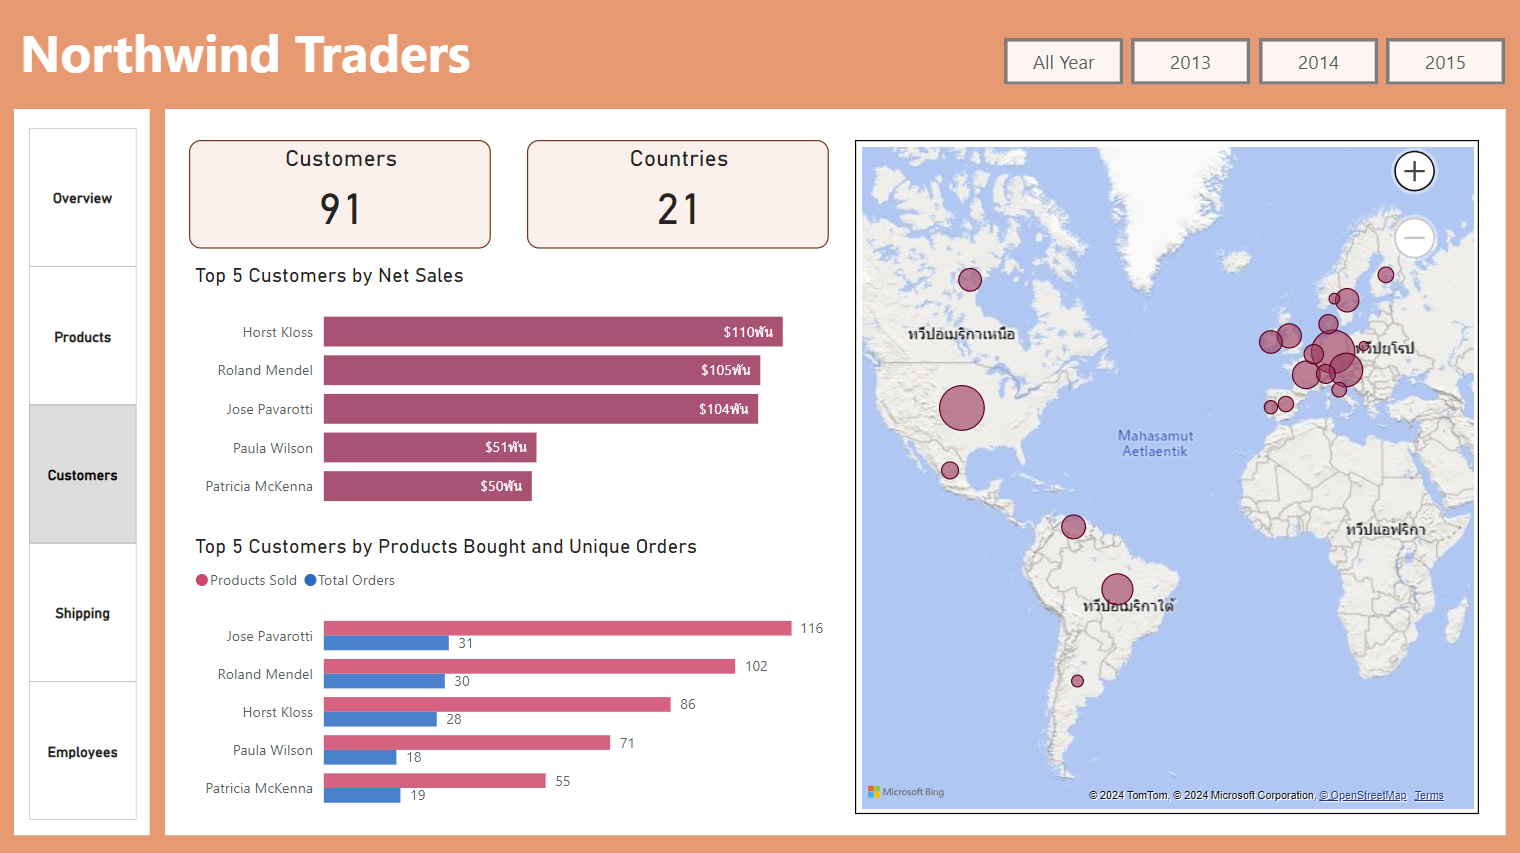

The page's visual inventory and layout, read from the dashboard file:
{"tool":"powerbi","page":{"name":"Customers","canvas":[1280,720],"ordinal":2},"visuals":[{"type":"textbox","box":[15.1,12.8,676,82.5],"z":0},{"type":"shape","box":[141.2,95,1123.8,608.8],"z":1000},{"type":"shape","box":[15,95,113.8,608.8],"z":2000},{"type":"card","title":"Customers","fields":{"Values":["Count(customers.customerID)"]},"box":[161.5,120.8,253.2,90.6],"z":3000},{"type":"card","title":"Countries","fields":{"Values":["Count(customers.country)"]},"box":[444.9,120.8,253.2,90.6],"z":4000},{"type":"barChart","title":"Top 5 Customers by Net Sales","fields":{"Y":["_measures.Net Sales"],"Category":["customers.contactName"]},"box":[161.5,224.2,536.6,218.4],"z":5000},{"type":"pageNavigator","box":[27.9,110.3,90.6,584.2],"z":6000},{"type":"actionButton","box":[845,35,100,39.4],"z":7000},{"type":"actionButton","box":[951.4,35,100,39.3],"z":8000},{"type":"actionButton","box":[1058.6,35,100,39.3],"z":9000},{"type":"actionButton","box":[1165,34.8,99.9,39.5],"z":10000},{"type":"clusteredBarChart","title":"Top 5 Customers by Products Bought and Unique Orders","fields":{"Category":["customers.contactName"],"Y":["_measures.Products Sold","_measures.Total Orders"]},"box":[161.5,450.7,536.6,243.9],"z":11000},{"type":"map","fields":{"Category":["customers.country"],"Size":["_measures.Net Sales"]},"box":[720.1,120.8,522.7,564.5],"z":12000}]}

Visuals, with their boxes in screenshot pixels (x1, y1, x2, y2), scaled from the page's 1280x720 canvas onto the 1520x853 screenshot:
textbox: [left=18, top=15, right=821, bottom=113]
shape: [left=168, top=113, right=1502, bottom=834]
shape: [left=18, top=113, right=153, bottom=834]
"Customers" card: [left=192, top=143, right=492, bottom=250]
"Countries" card: [left=528, top=143, right=829, bottom=250]
"Top 5 Customers by Net Sales" barChart: [left=192, top=266, right=829, bottom=524]
pageNavigator: [left=33, top=131, right=141, bottom=823]
actionButton: [left=1003, top=41, right=1122, bottom=88]
actionButton: [left=1130, top=41, right=1249, bottom=88]
actionButton: [left=1257, top=41, right=1376, bottom=88]
actionButton: [left=1383, top=41, right=1502, bottom=88]
"Top 5 Customers by Products Bought and Unique Orders" clusteredBarChart: [left=192, top=534, right=829, bottom=823]
map - customers.country x _measures.Net Sales: [left=855, top=143, right=1476, bottom=812]
